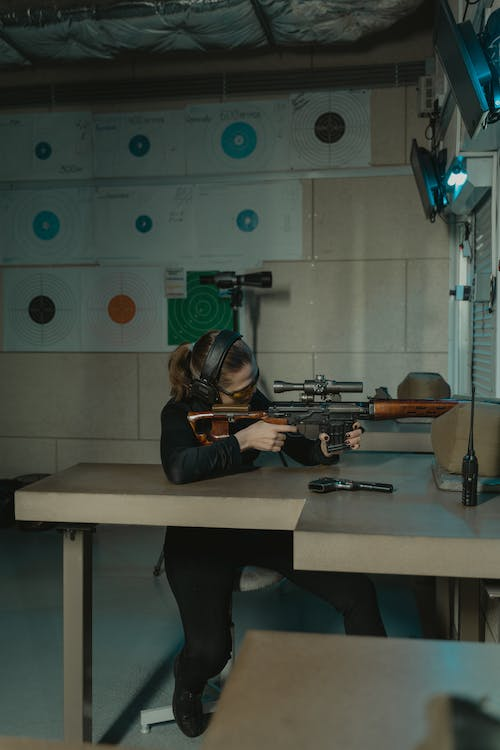gun: (184, 370, 462, 457), (306, 471, 395, 497)
